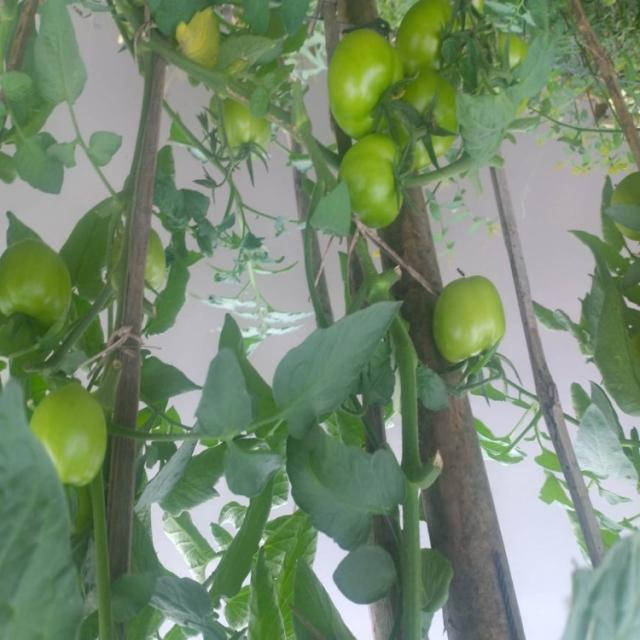tomato: (392, 1, 528, 106), (334, 130, 423, 246), (430, 268, 520, 377), (1, 230, 78, 341), (325, 10, 399, 118), (394, 61, 465, 158), (216, 108, 310, 181), (132, 218, 196, 301), (37, 389, 108, 456)
